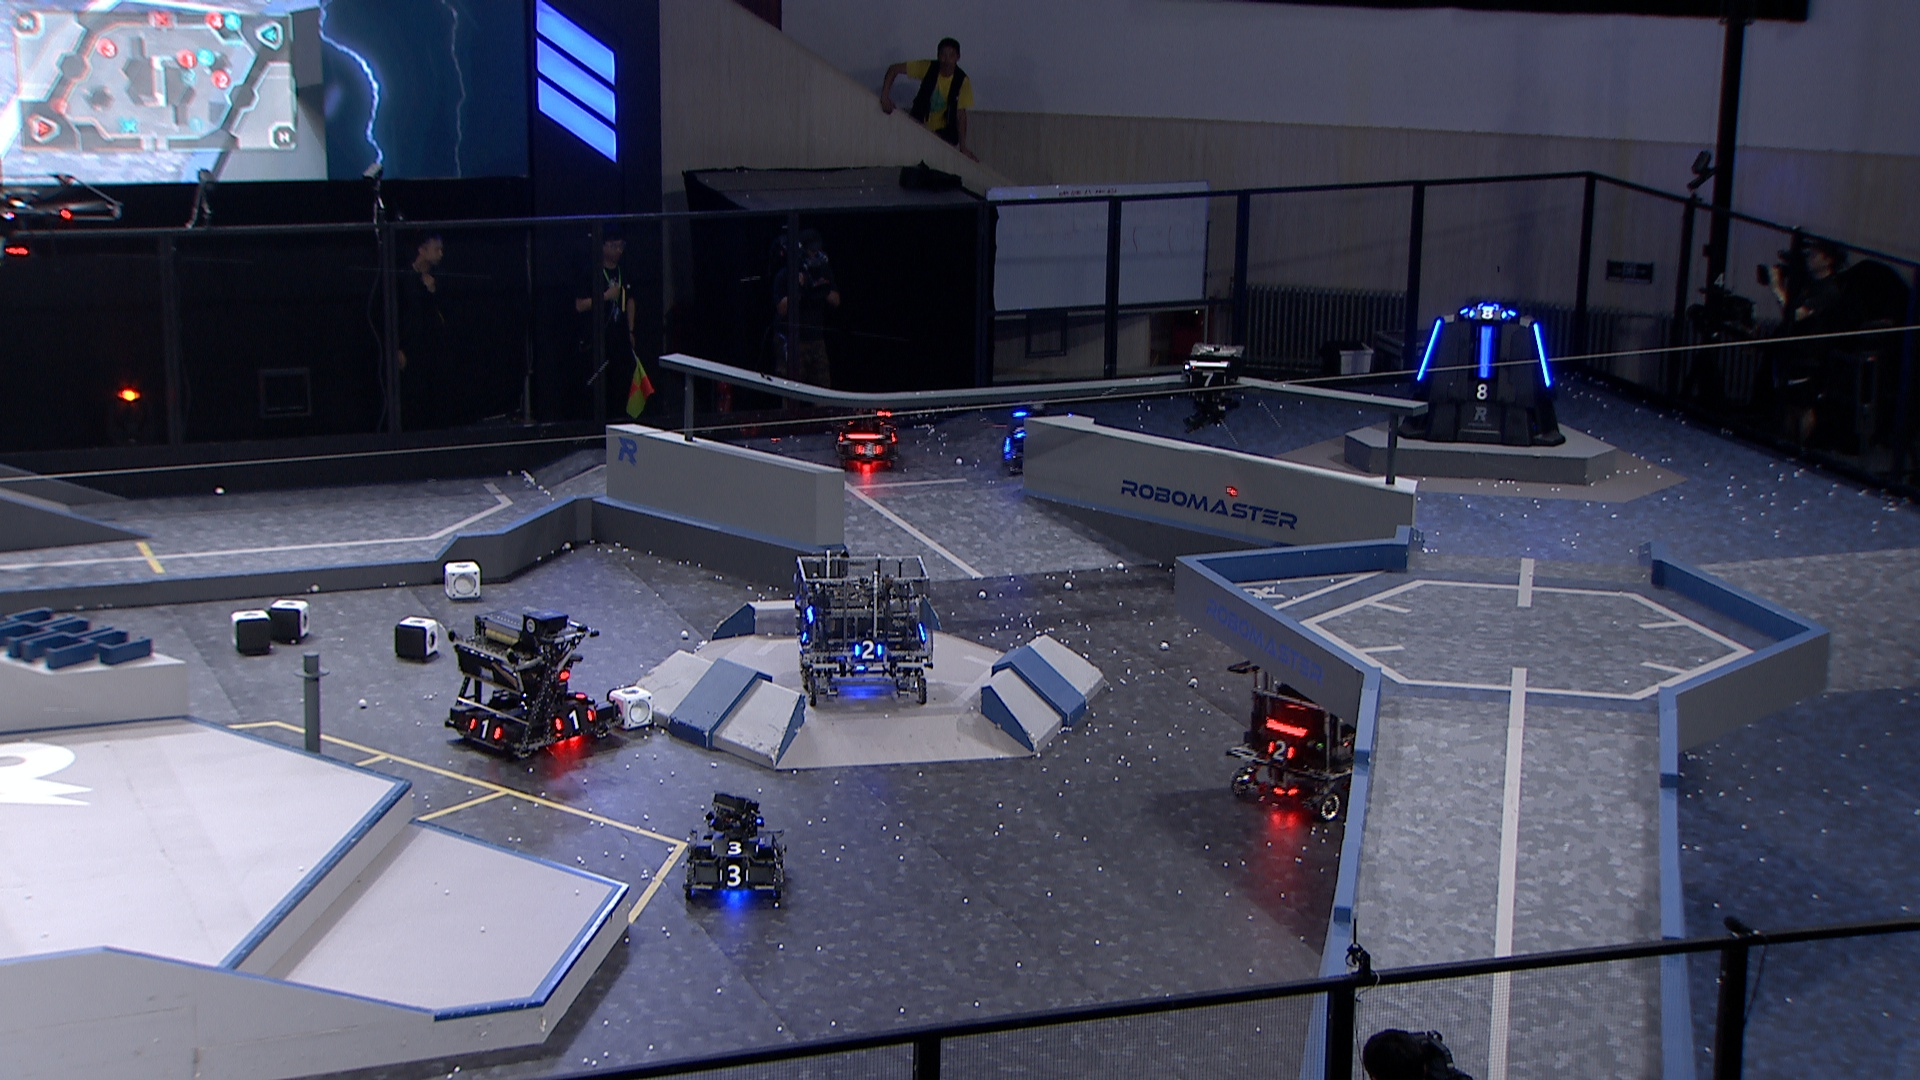armor: (1414, 318, 1447, 385), (1531, 322, 1553, 386), (1476, 323, 1498, 381), (553, 705, 595, 735), (465, 712, 505, 741), (708, 837, 764, 856), (1263, 735, 1296, 764), (713, 864, 750, 887), (1185, 371, 1228, 390), (851, 637, 884, 662), (1466, 305, 1510, 323), (851, 439, 884, 460), (1466, 382, 1495, 401), (560, 684, 588, 700), (1010, 423, 1030, 440)
base: (1391, 299, 1572, 452)
car: (1222, 638, 1395, 823), (442, 597, 629, 764), (793, 553, 936, 709), (675, 790, 785, 909), (998, 396, 1091, 477), (822, 398, 906, 467)
watcher: (1178, 339, 1250, 434)
